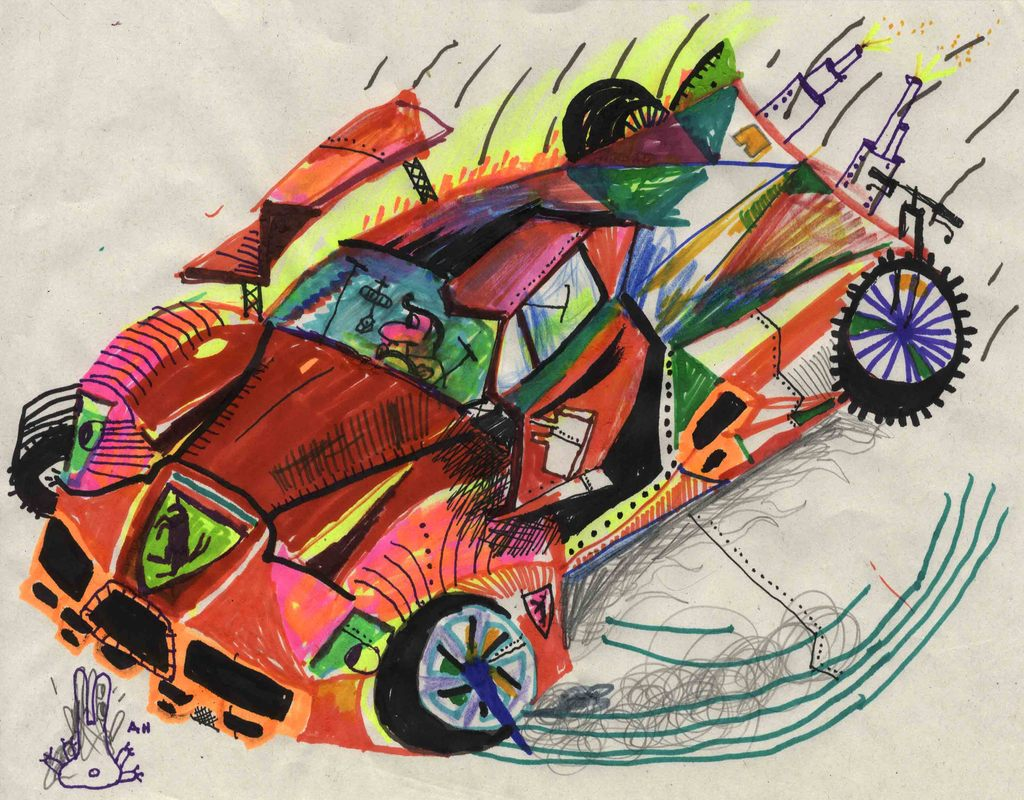Car: (9, 37, 957, 748)
